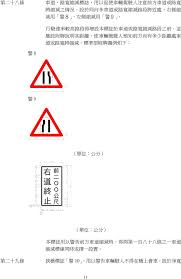Narrow_road: (29, 106, 64, 138), (29, 59, 64, 90)
